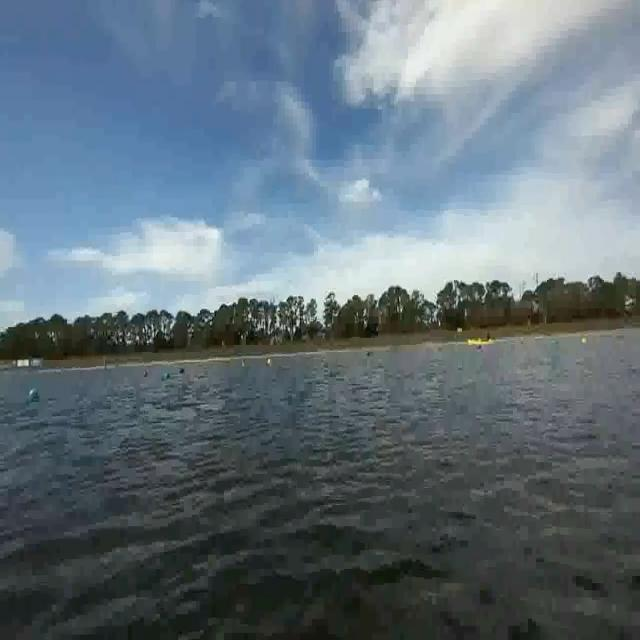green-buoy: (27, 386, 38, 402)
yellow-buoy: (579, 337, 587, 348)
